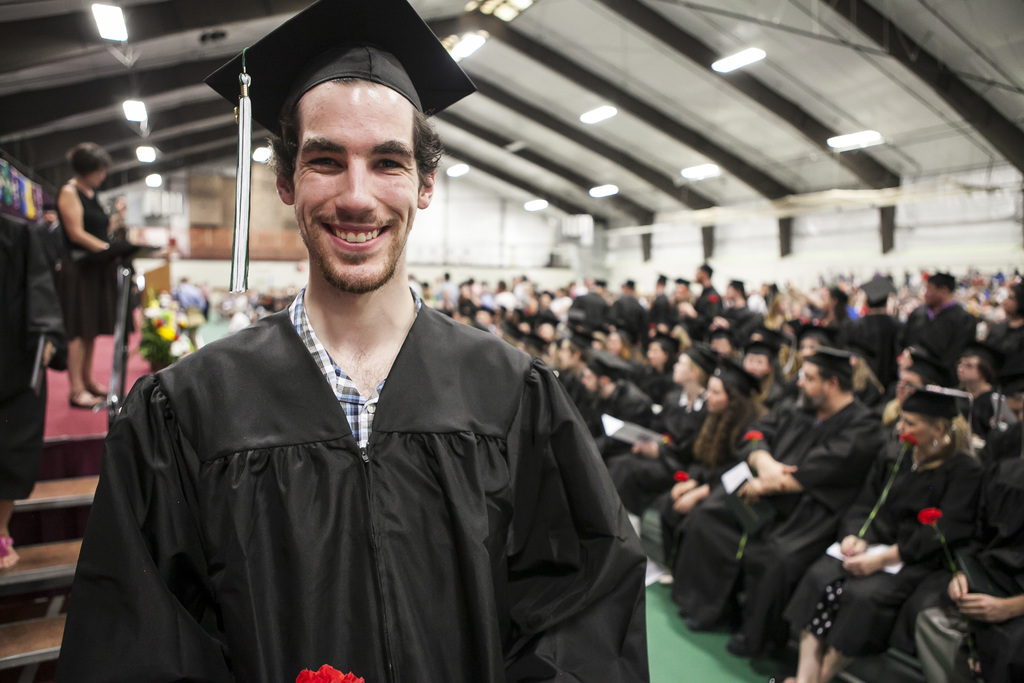Human-face: (294, 94, 417, 290), (798, 358, 828, 408), (894, 409, 933, 445), (705, 375, 730, 409), (669, 357, 698, 382), (743, 353, 773, 377), (954, 354, 982, 379), (922, 283, 947, 310), (93, 165, 113, 193), (577, 368, 602, 390), (646, 343, 666, 366), (709, 338, 733, 357), (83, 165, 104, 186)
